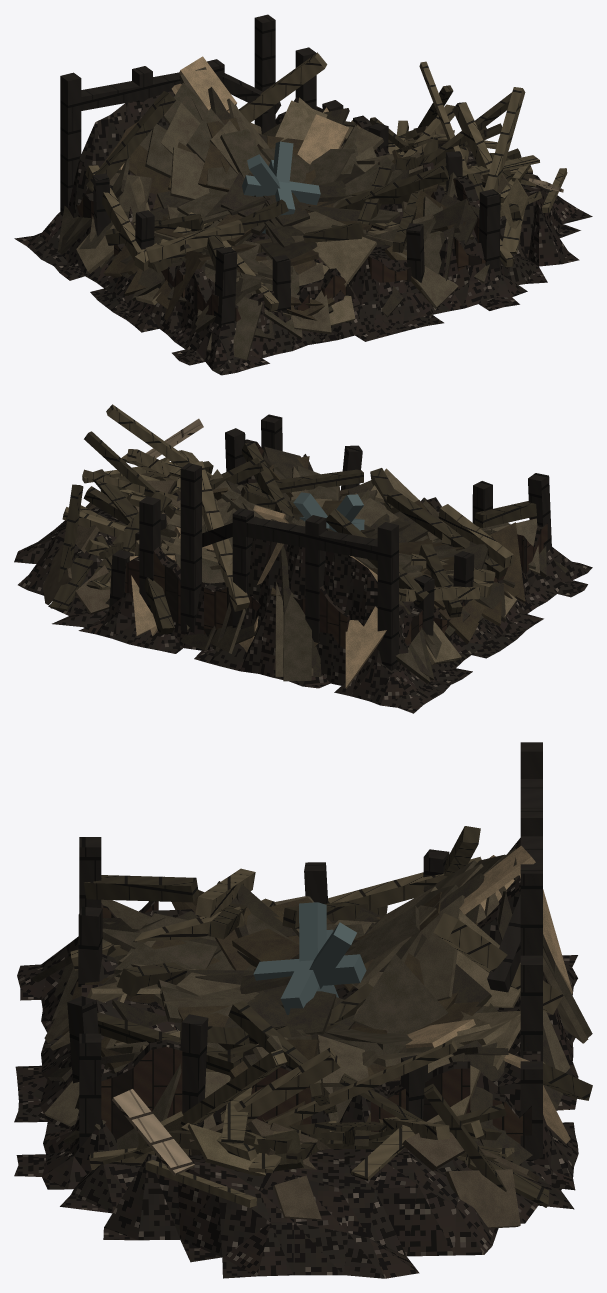
File: Arabuild01b.glb
The picture shows the model from 3 angles, top to bottom: view 1: azimuth 30°, elevation 25°; view 2: azimuth 150°, elevation 25°; view 3: azimuth 270°, elevation 25°; orthographic projection. The views are drawn at different scales.
Visible parts, largest first — view 1: Arabuild01b_char; view 2: Arabuild01b_char; view 3: Arabuild01b_char.
Boxes of the visible parts, box(x1,y1,x2,y2) form: Arabuild01b_char: box(14, 14, 592, 375); Arabuild01b_char: box(14, 404, 592, 713); Arabuild01b_char: box(14, 742, 592, 1278).
Bounding box in the file's own units: 8.97 × 3.5 × 6.75.
Materials: 17 (16 with a texture image).
